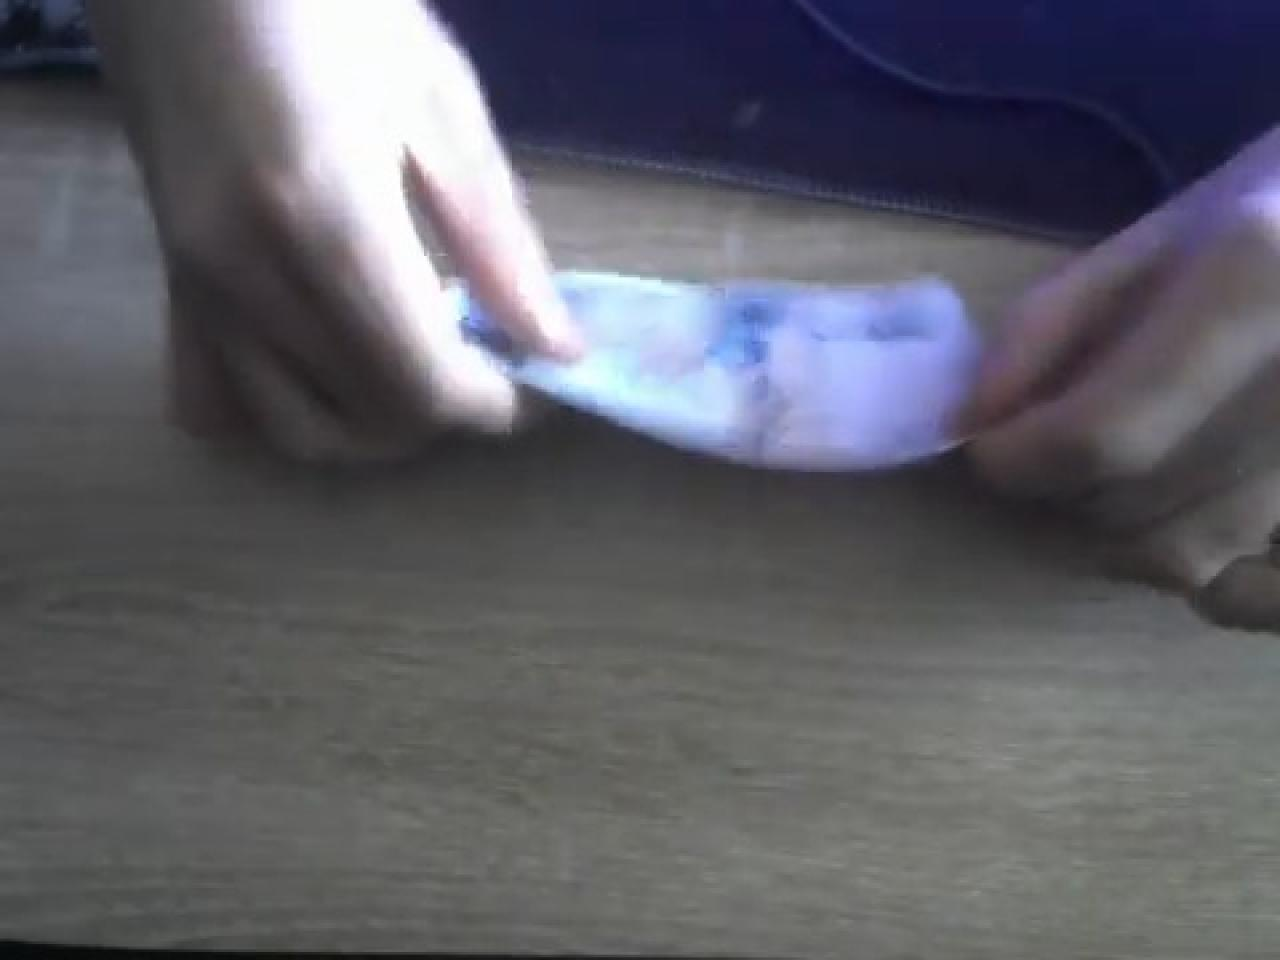20leva: (449, 261, 987, 478)
